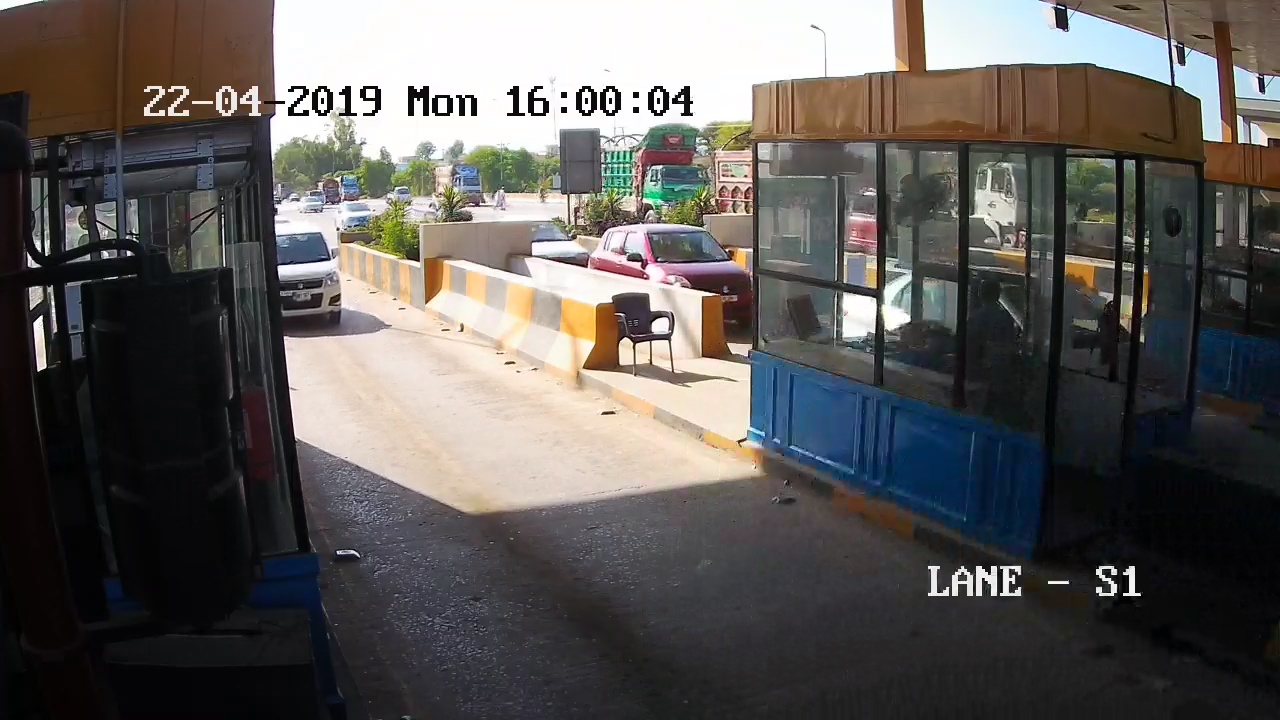car: (271, 224, 364, 337)
